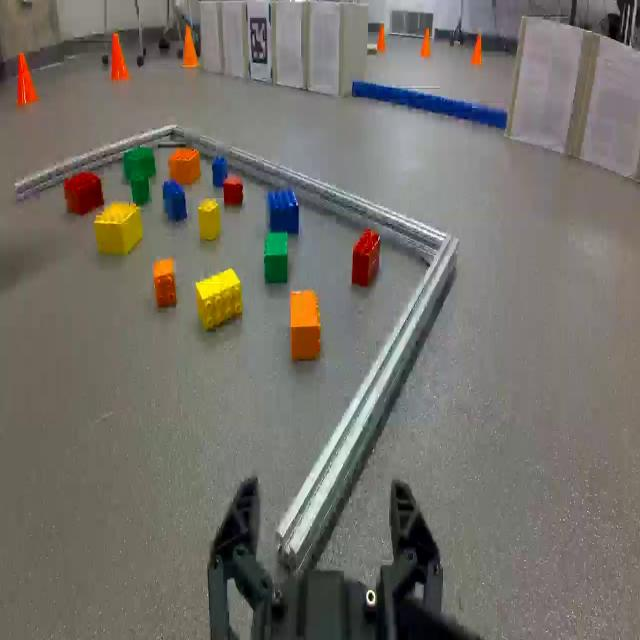block: (92, 201, 146, 260), (196, 272, 244, 330), (198, 198, 222, 244)
blue: (268, 191, 300, 237), (164, 179, 190, 223), (212, 156, 228, 188)
cone: (8, 51, 40, 108), (104, 31, 132, 85), (178, 23, 202, 74), (469, 33, 485, 68), (373, 22, 388, 53), (419, 29, 432, 60)
green: (263, 230, 291, 288), (122, 146, 155, 189), (129, 167, 149, 206)
metal barrier: (14, 117, 461, 580)
orange: (290, 293, 322, 358), (168, 145, 202, 187), (153, 260, 179, 308)
red goal: (62, 166, 106, 221), (352, 229, 380, 289), (224, 176, 244, 208)
river: (349, 77, 506, 131)
storage cube: (506, 14, 590, 158), (574, 32, 638, 188), (300, 1, 357, 101), (198, 1, 248, 84), (270, 0, 310, 96)
